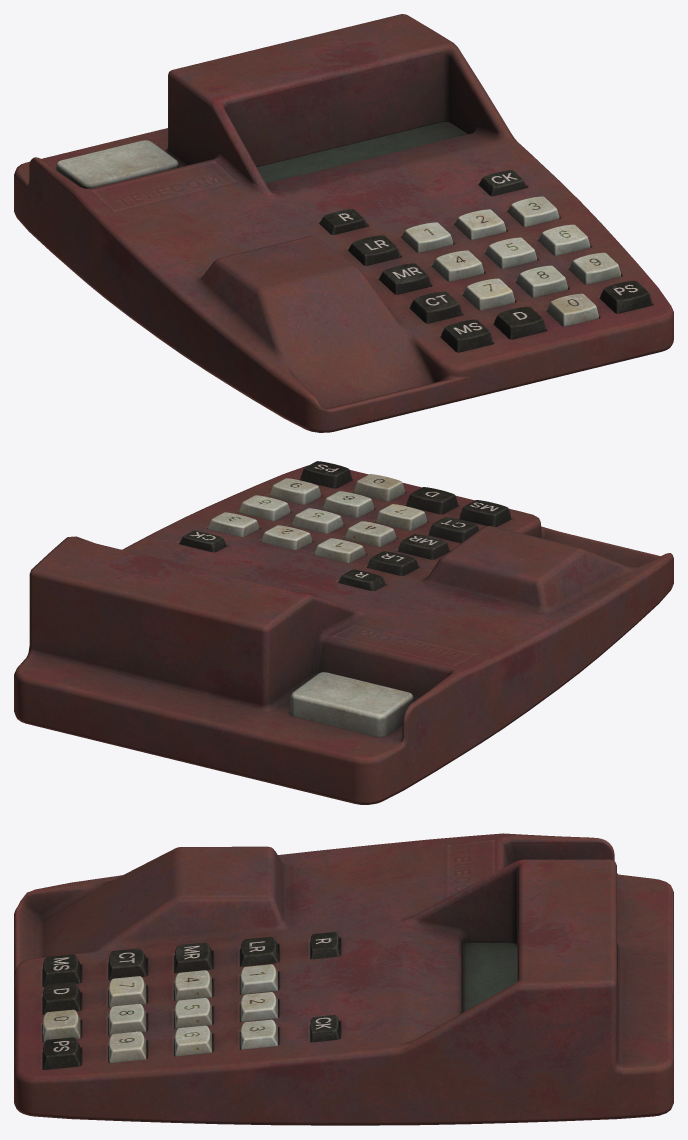
The model's file is phone-body.glb.
3 renders of one model, top to bottom at view 1: azimuth 30°, elevation 25°; view 2: azimuth 150°, elevation 25°; view 3: azimuth 270°, elevation 25°, orthographic. The views are drawn at different scales.
Visible parts, largest first — view 1: body_low; view 2: body_low; view 3: body_low.
Boxes of the visible parts, bbox=[...] form: body_low: bbox=[14, 14, 673, 432]; body_low: bbox=[14, 461, 673, 804]; body_low: bbox=[14, 833, 673, 1125].
Bounding box in the file's own units: 0.2624 × 0.0815 × 0.3489.
Materials: 1 (1 with a texture image).
